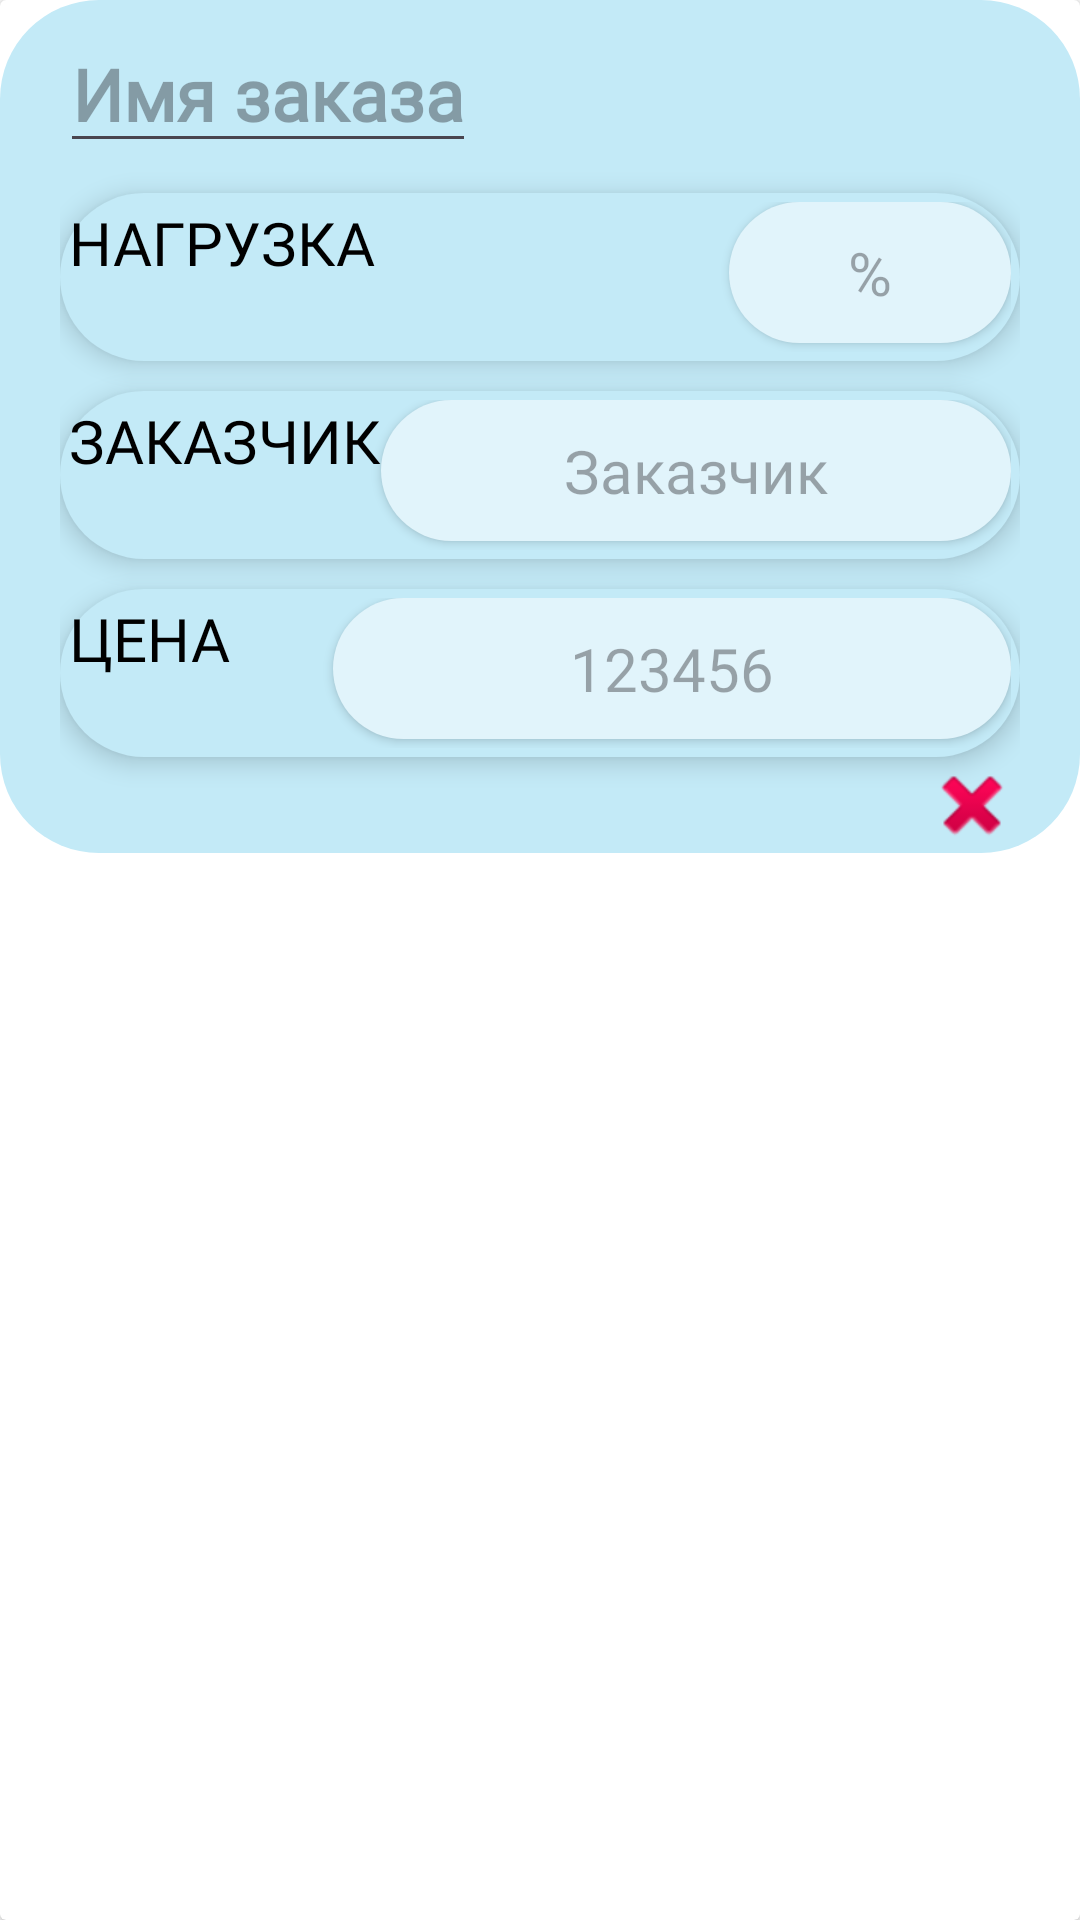

Icon bounding boxes for this 1080 x 1920 phone screenshot, format detection(x1, y1, x2, y2):
Удалить: detection(941, 776, 1003, 835)
